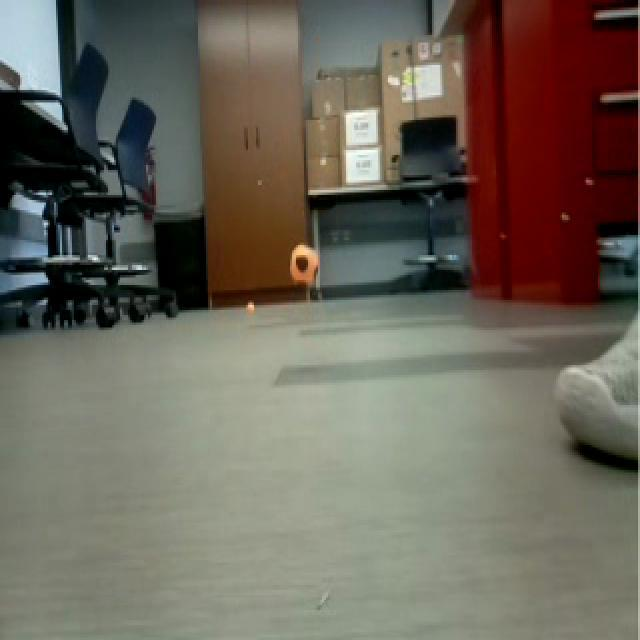oball: (244, 298, 259, 320)
